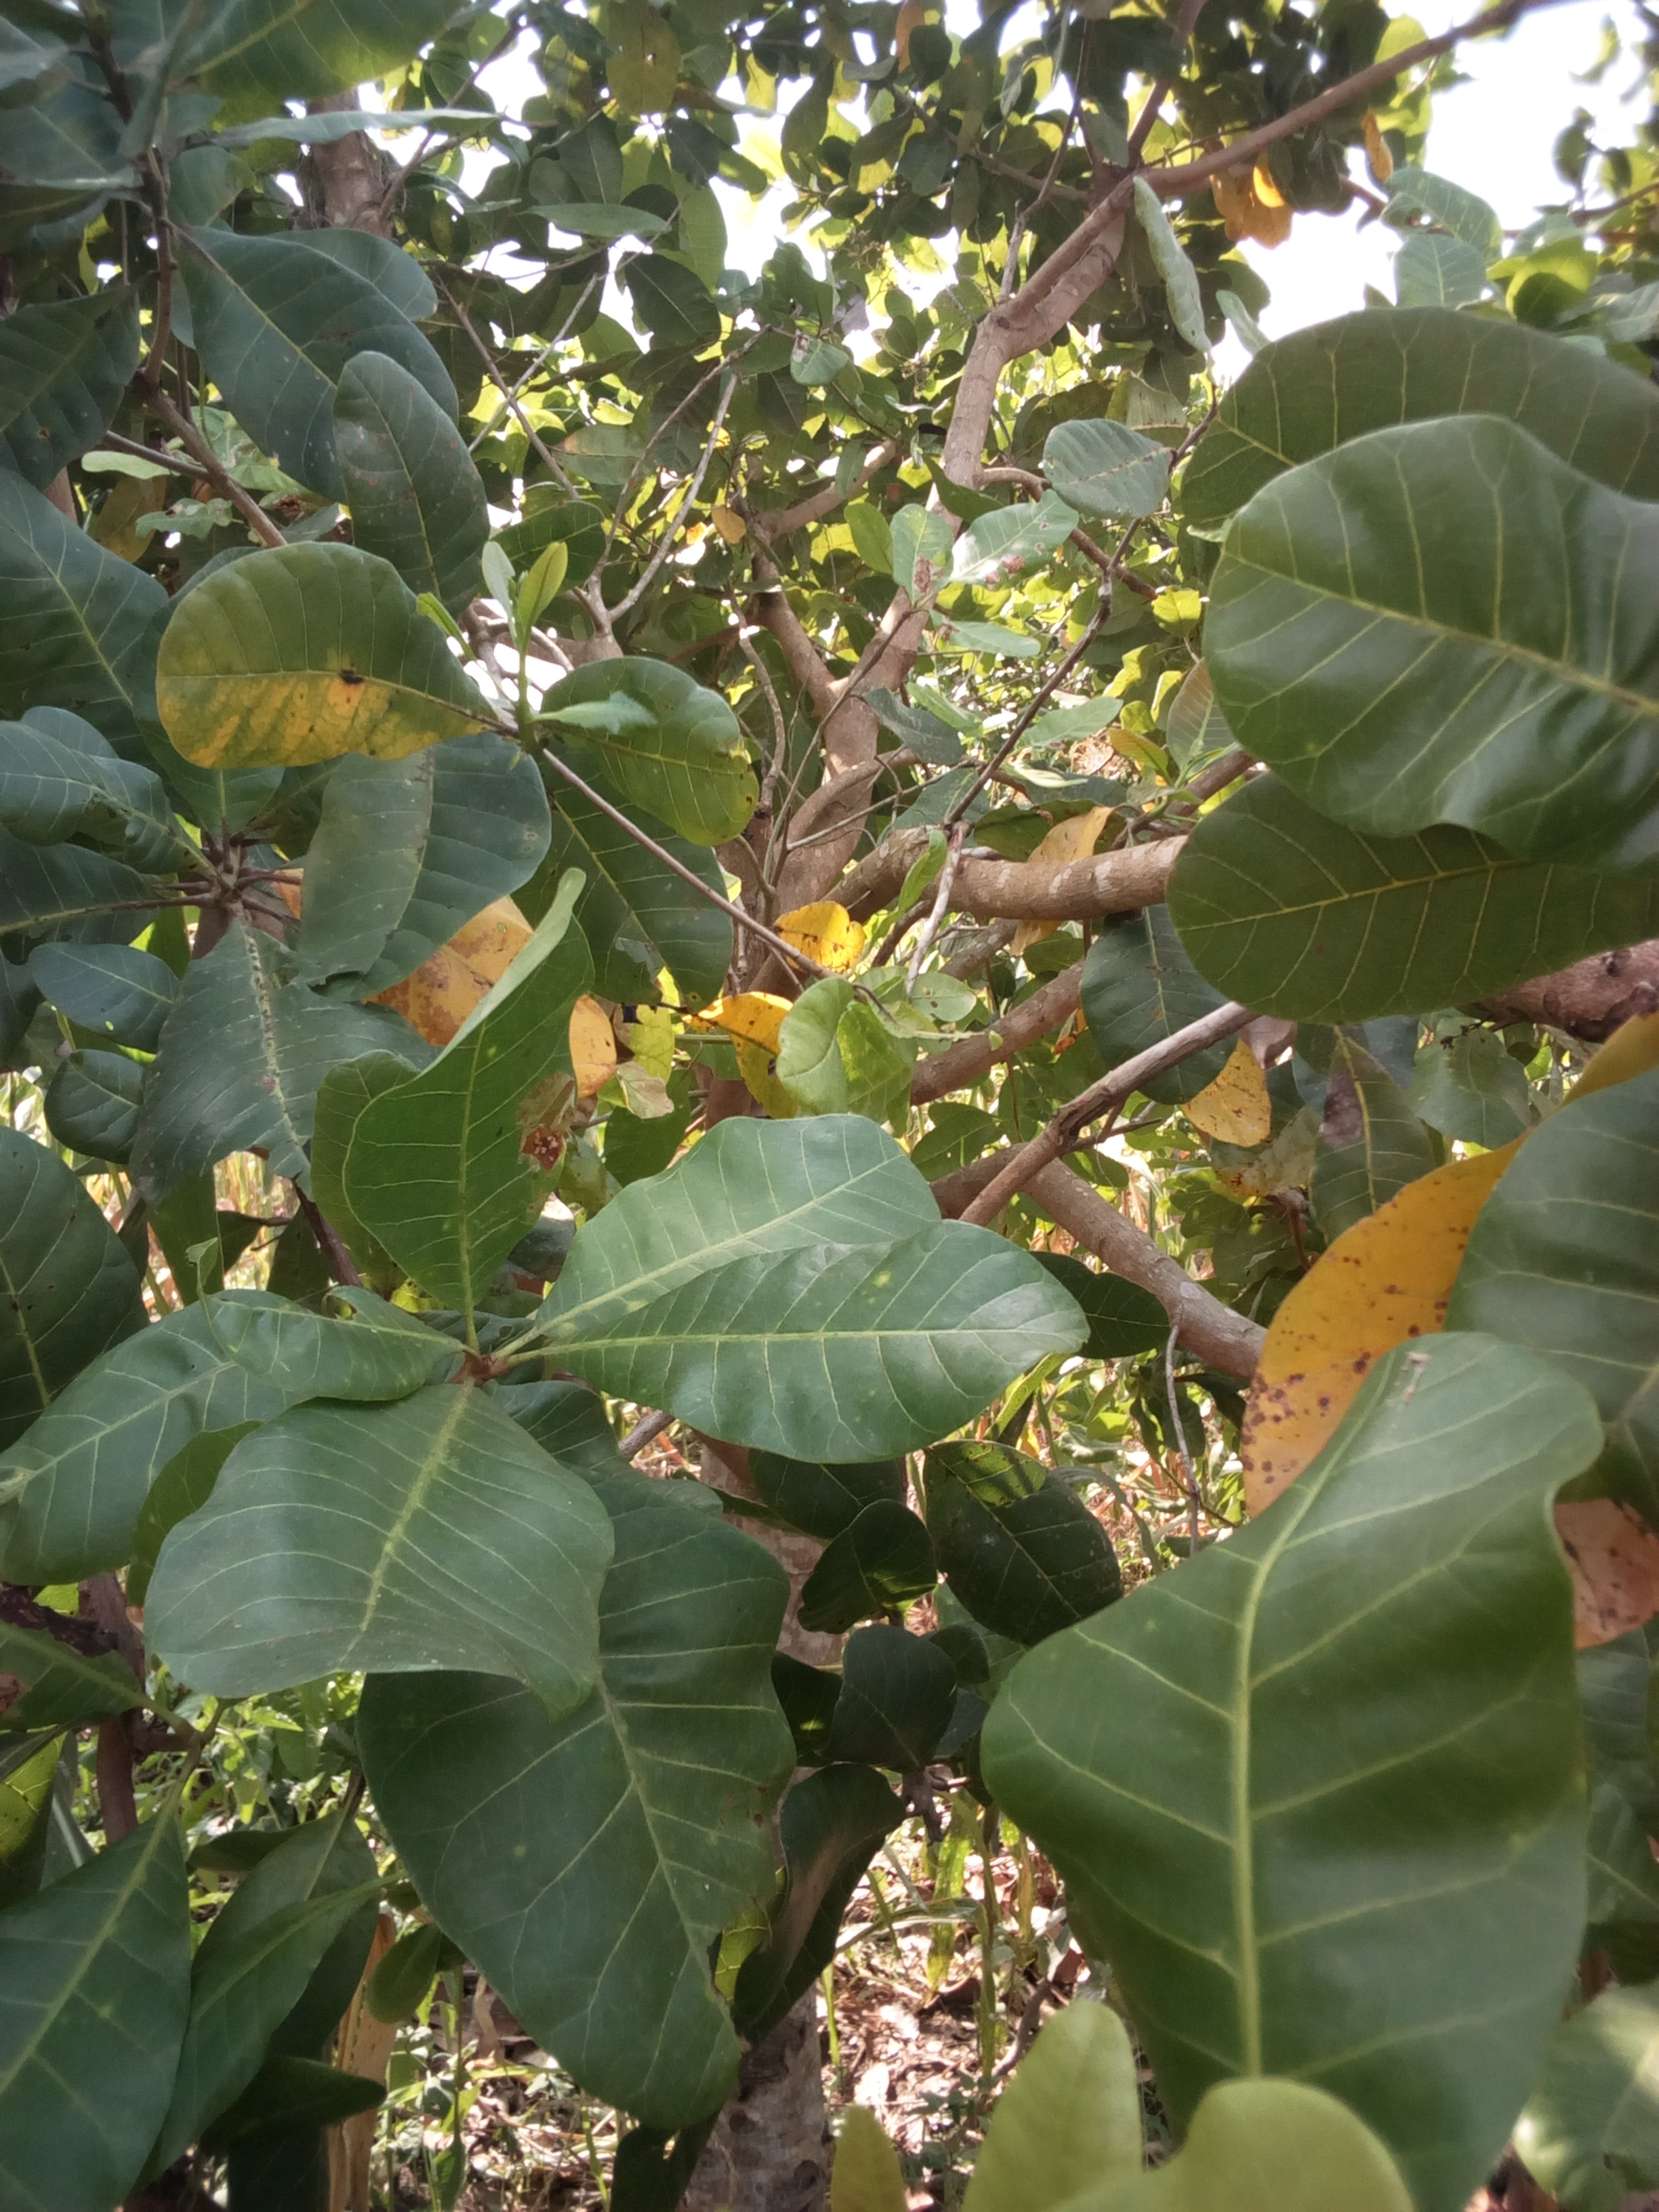Anthracnose: (1239, 1150, 1464, 1507)
